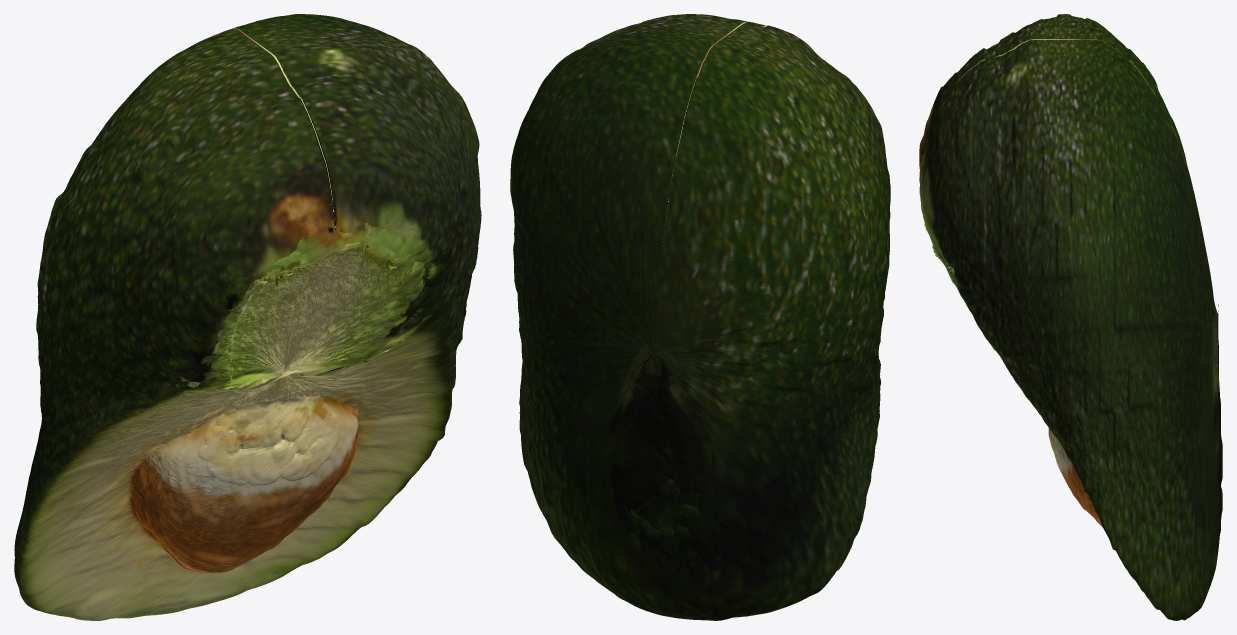
File: mesh_inpaint.glb
3 views of the same model, side by side, from view 1: azimuth 30°, elevation 25°; view 2: azimuth 150°, elevation 25°; view 3: azimuth 270°, elevation 25° (orthographic). The views are drawn at different scales.
Visible parts, largest first — view 1: ipn, fill; view 2: ipn, fill; view 3: ipn, fill.
Boxes of the visible parts, x1,y1,x2,y2 form: ipn: (14,14,481,620); fill: (170,222,449,485); ipn: (510,14,890,620); fill: (608,343,738,580); ipn: (920,14,1219,620); fill: (919,134,1222,533).
Size of the model in its own units: 1.44 by 2 by 0.9919.
Materials: 2 (1 with a texture image).
